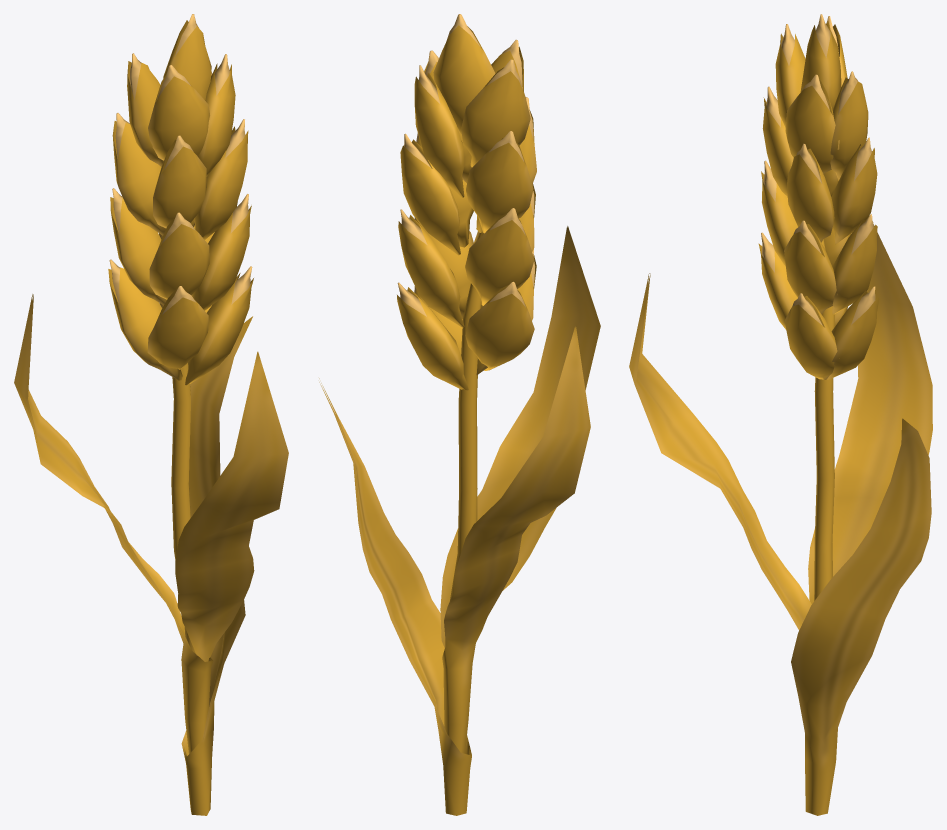
3 renders of one model, left to right at view 1: azimuth 30°, elevation 25°; view 2: azimuth 150°, elevation 25°; view 3: azimuth 270°, elevation 25°, orthographic.
Parts seen in each view (by area): view 1: maizi; view 2: maizi; view 3: maizi.
Boxes of the visible parts, left/top/right/bottom form: maizi: left=14, top=14, right=288, bottom=815; maizi: left=319, top=14, right=600, bottom=815; maizi: left=629, top=14, right=932, bottom=815.
Bounding box in the file's own units: 102 × 310 × 107.
